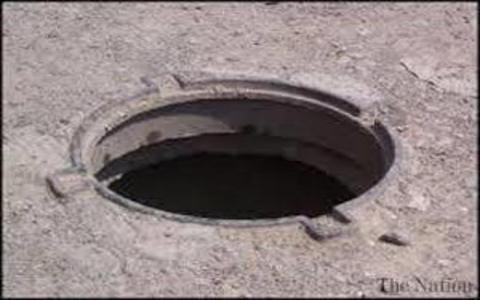open manhole: (15, 38, 429, 251)
